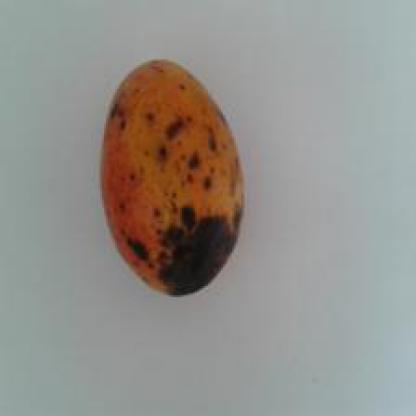mango_rotten: (93, 55, 245, 298)
